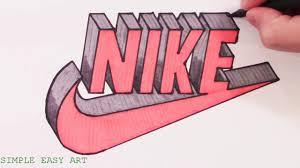nike: (30, 38, 293, 159)
